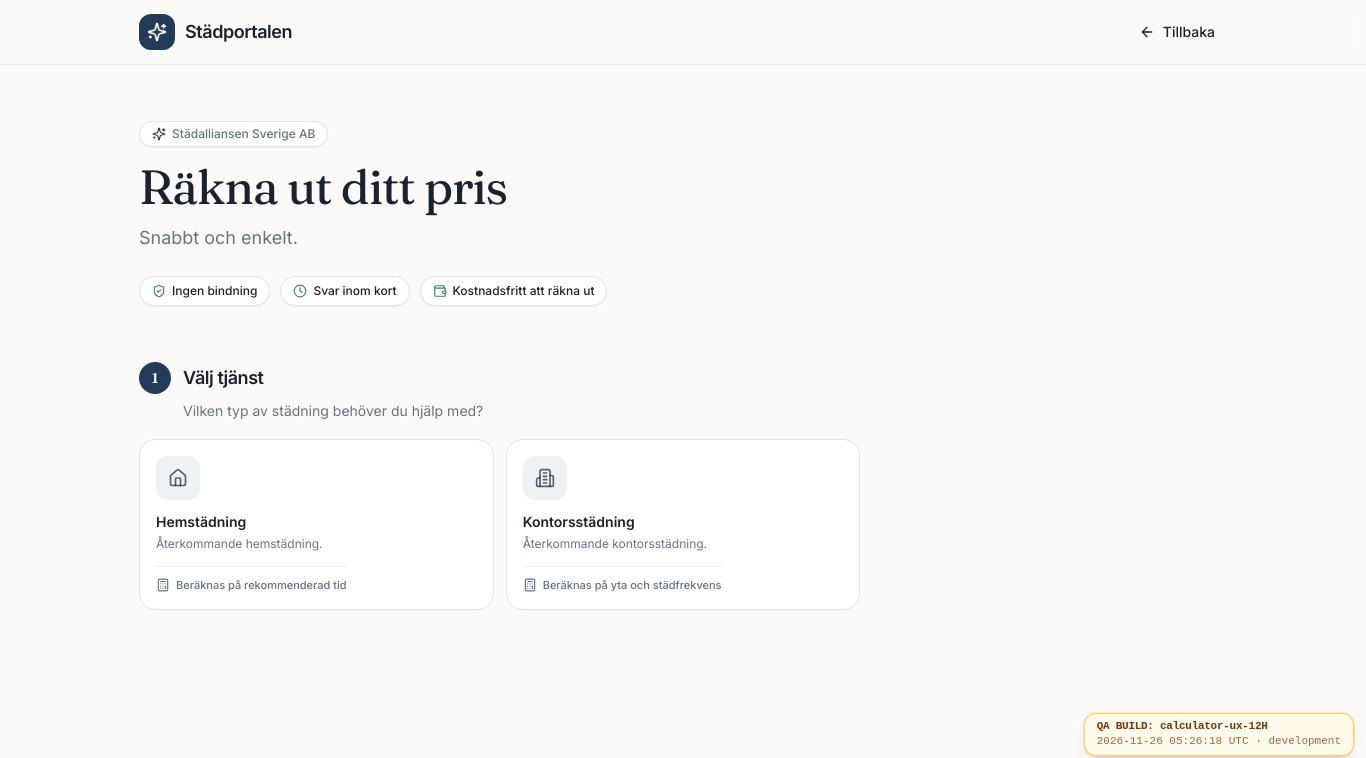
PriceCalculator — office custom interval + supervision (Slice 12F) › reveals the supervision detail fields only when the supervision toggle is on
The image size is (1366, 758).
Click the button "Kontorsstädning": [545, 478] box [506,439,860,610]
(page scrolled)
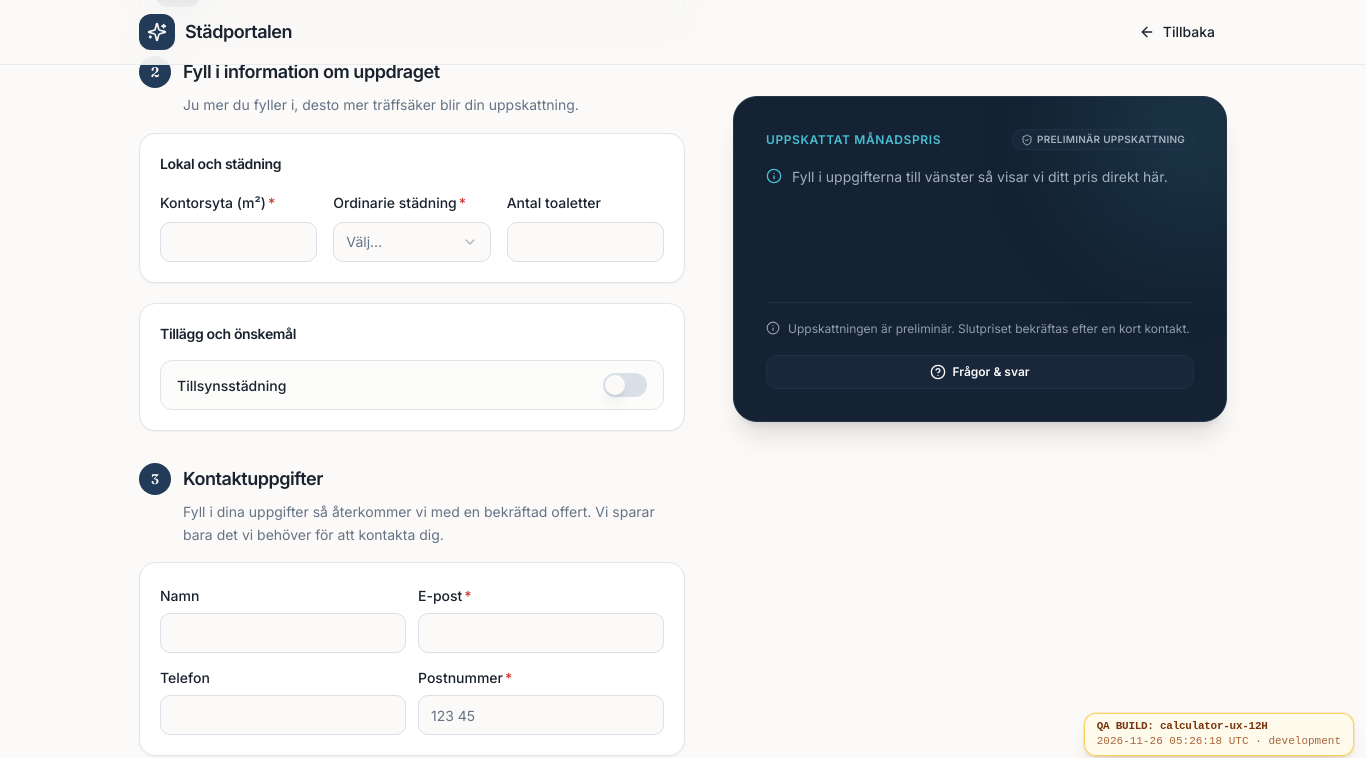
Check: the field labelled "Tillfällen per vecka" is not shown
Click the switch named "Tillsynsstädning": [625, 385] box [603,373,647,397]
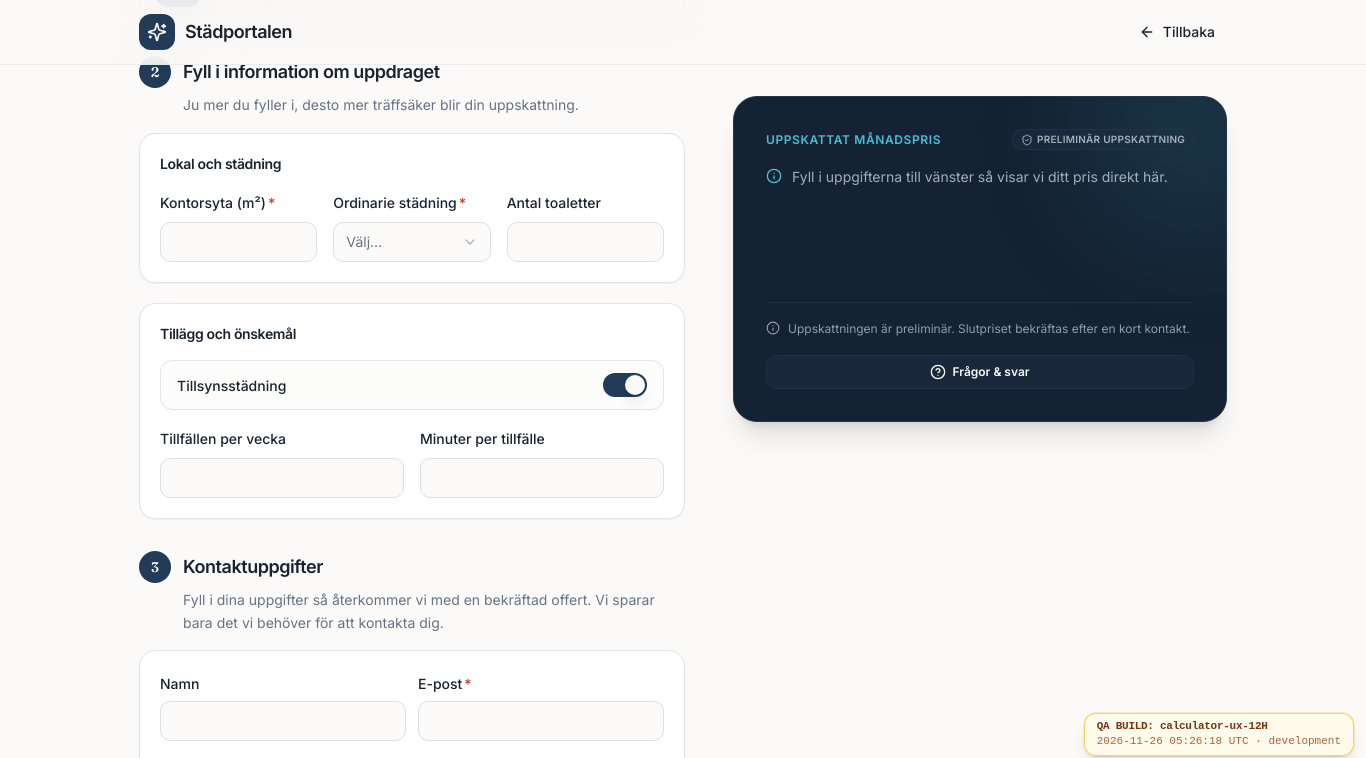
Check: the number field labelled "Tillfällen per vecka" is shown, box [160,458,404,498]
Check: the number field labelled "Minuter per tillfälle" is shown, box [420,458,664,498]
